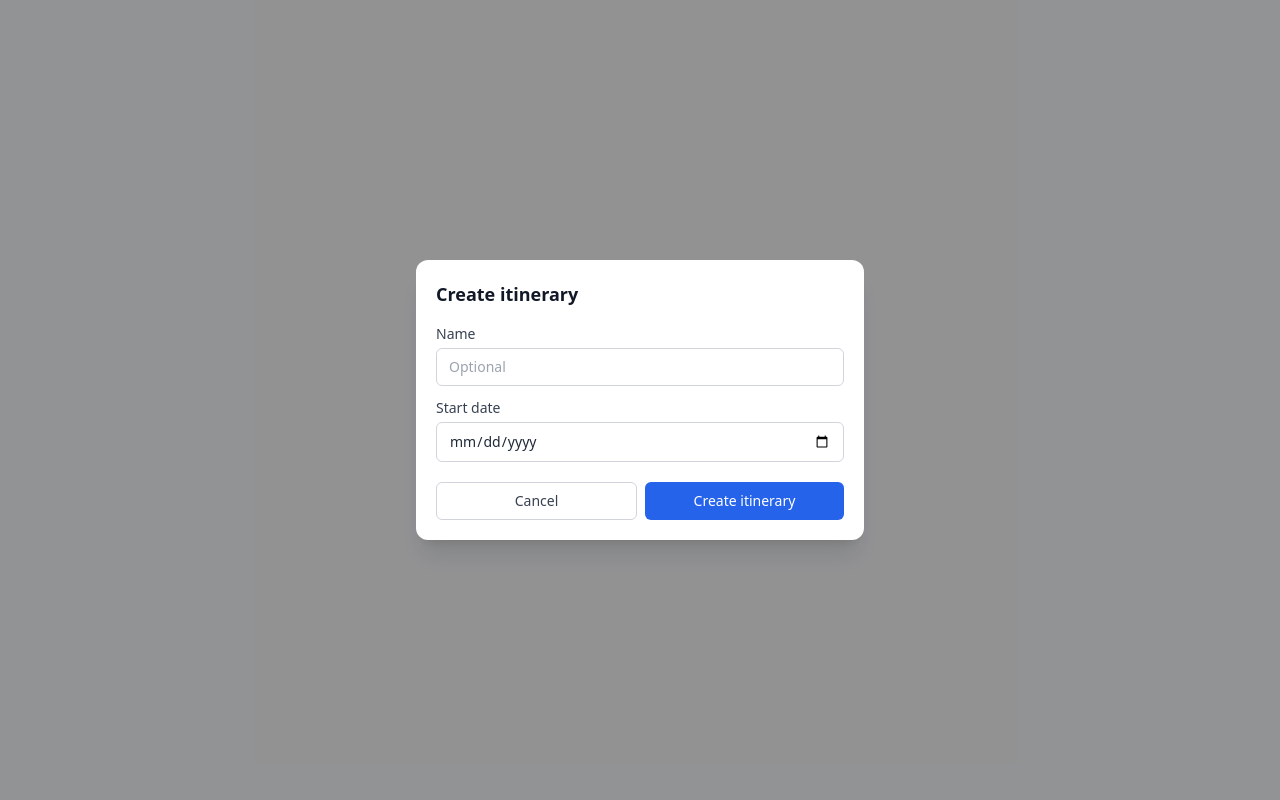
CreateItineraryModal › validates required start date before submit
Click the button "Create itinerary".
click(744, 501)  # box [645,482,844,520]
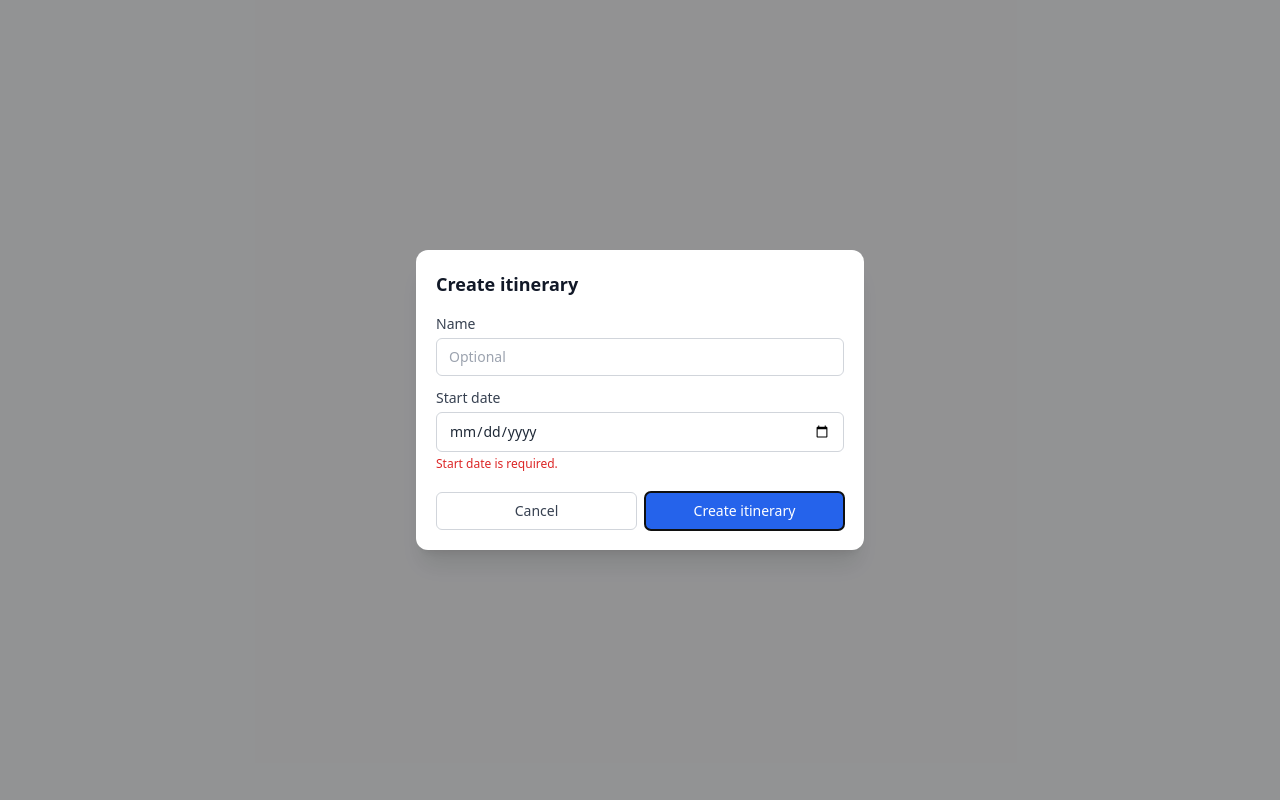
Expected: the text "Start date is required." is shown, [436,455,558,472]
